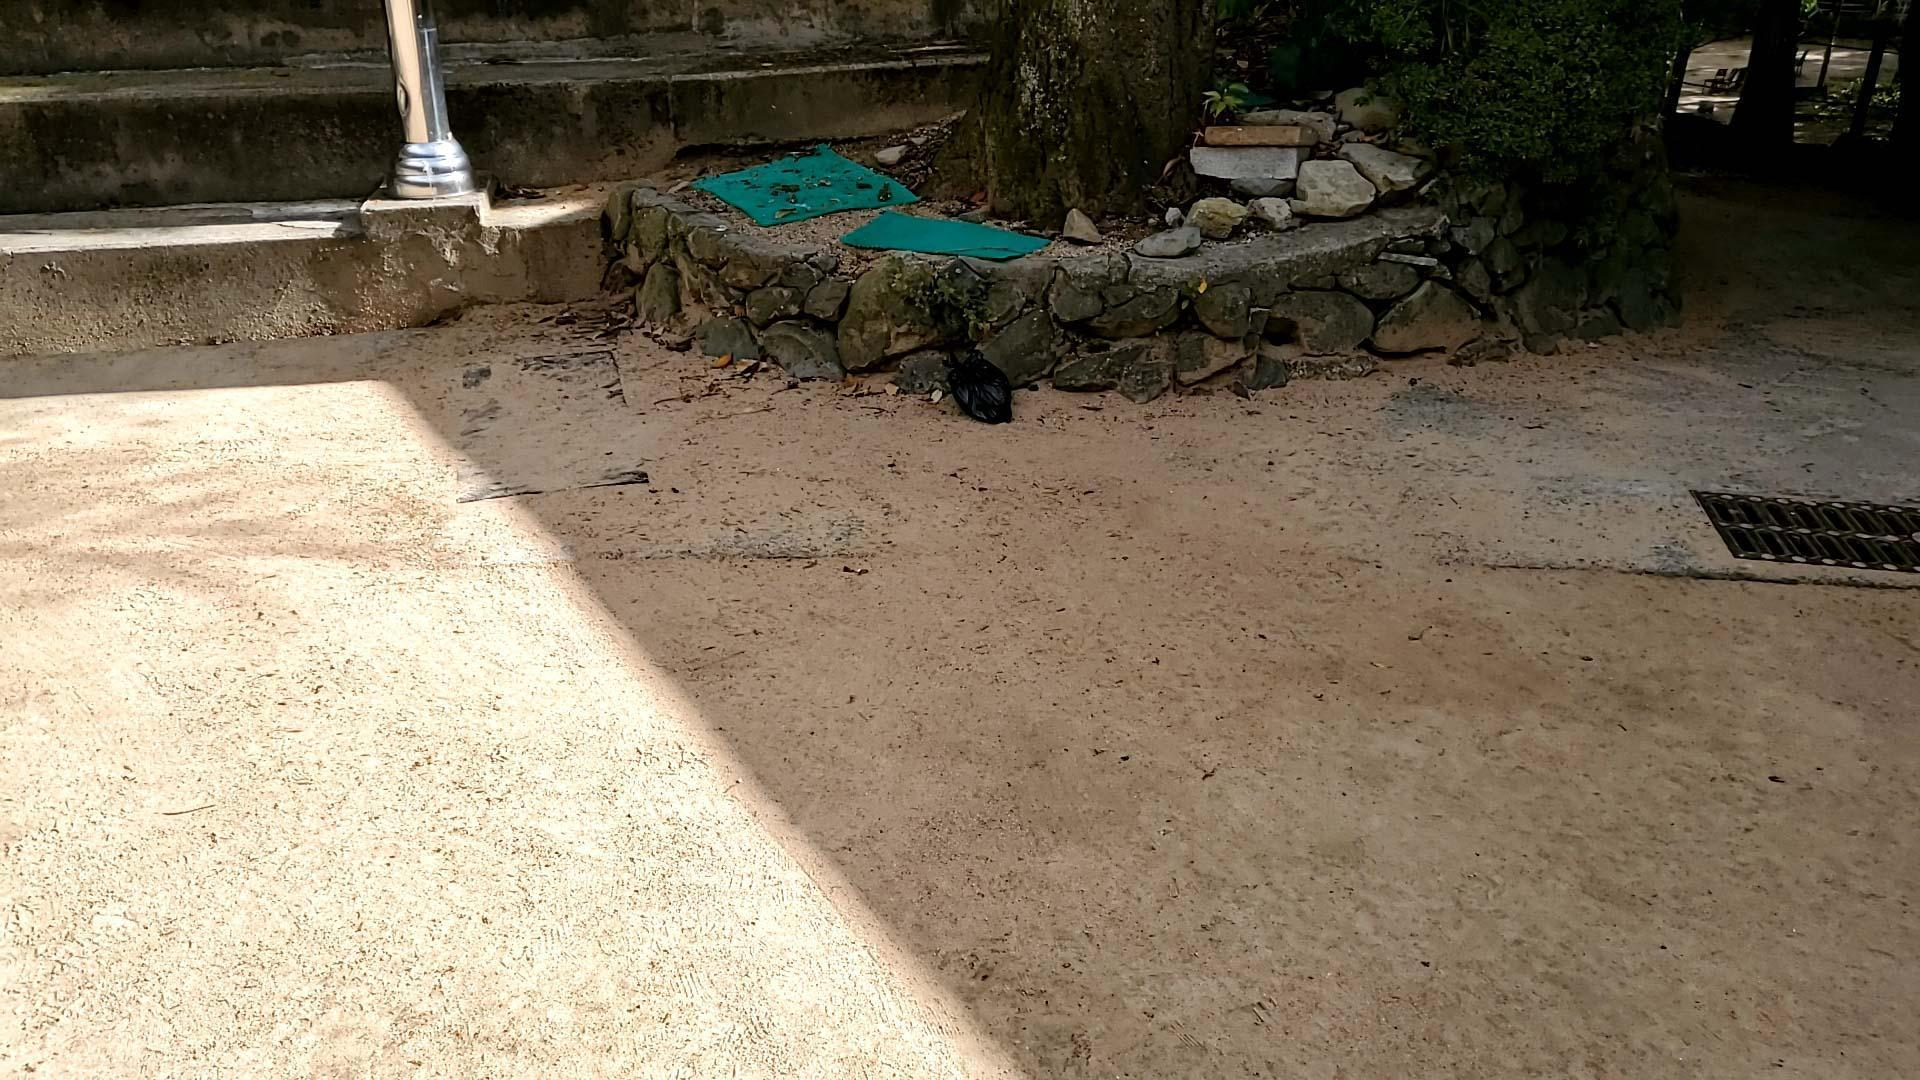black_bag: (936, 340, 1022, 426)
